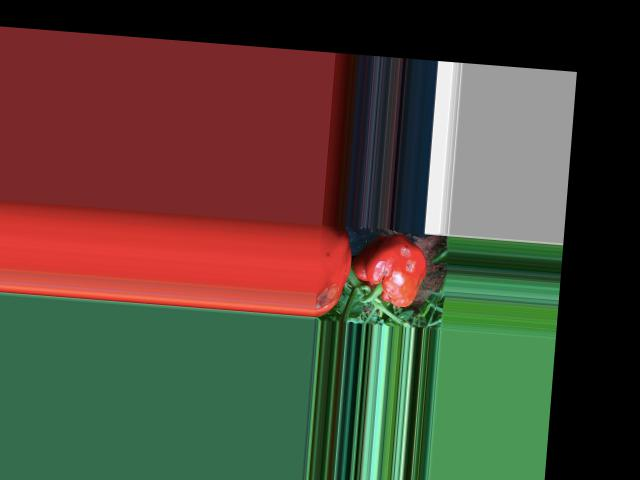bell_pepper: (350, 226, 426, 315)
